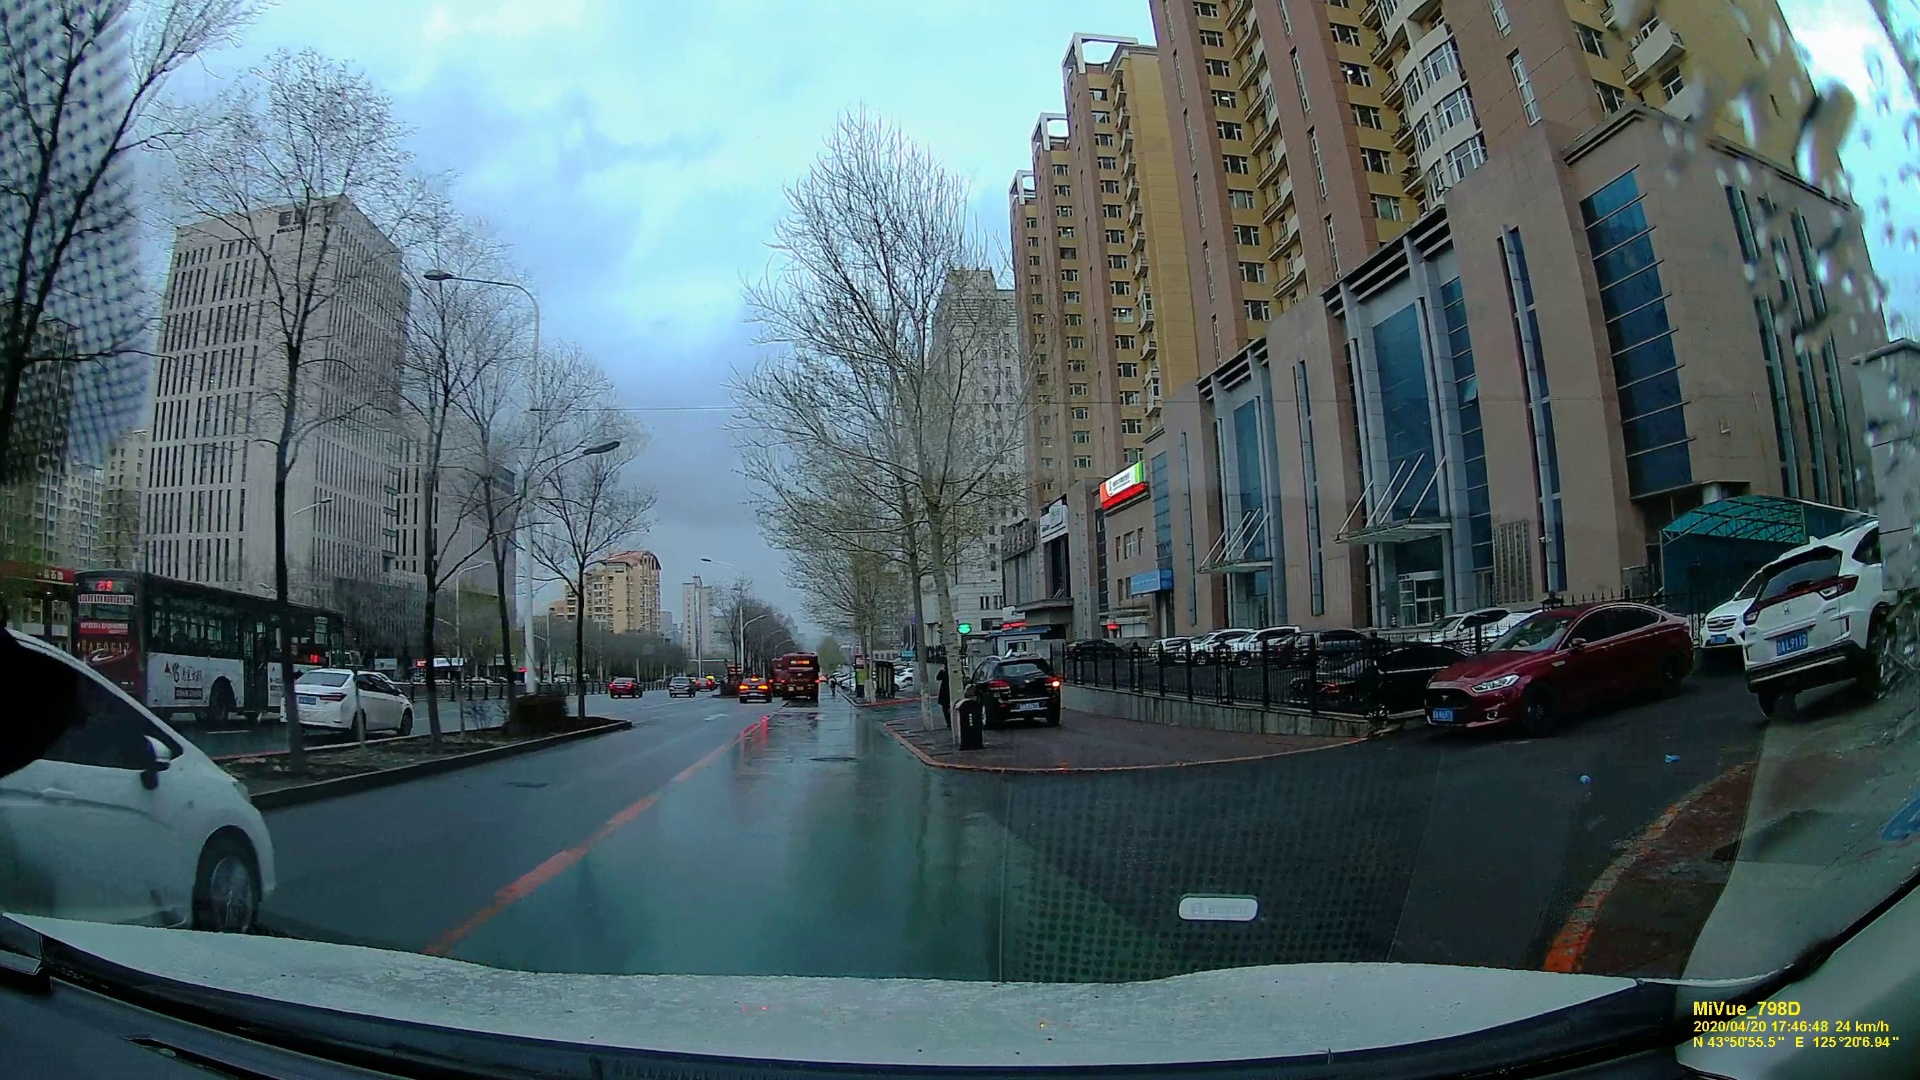bus: (74, 574, 370, 730), (777, 652, 818, 699)
person: (934, 659, 953, 728), (827, 673, 838, 696)
vehicle: (10, 642, 270, 912), (1423, 598, 1697, 743), (1752, 520, 1880, 698), (287, 666, 413, 738), (966, 654, 1062, 728), (738, 678, 772, 702), (610, 677, 641, 698), (669, 677, 695, 698)
